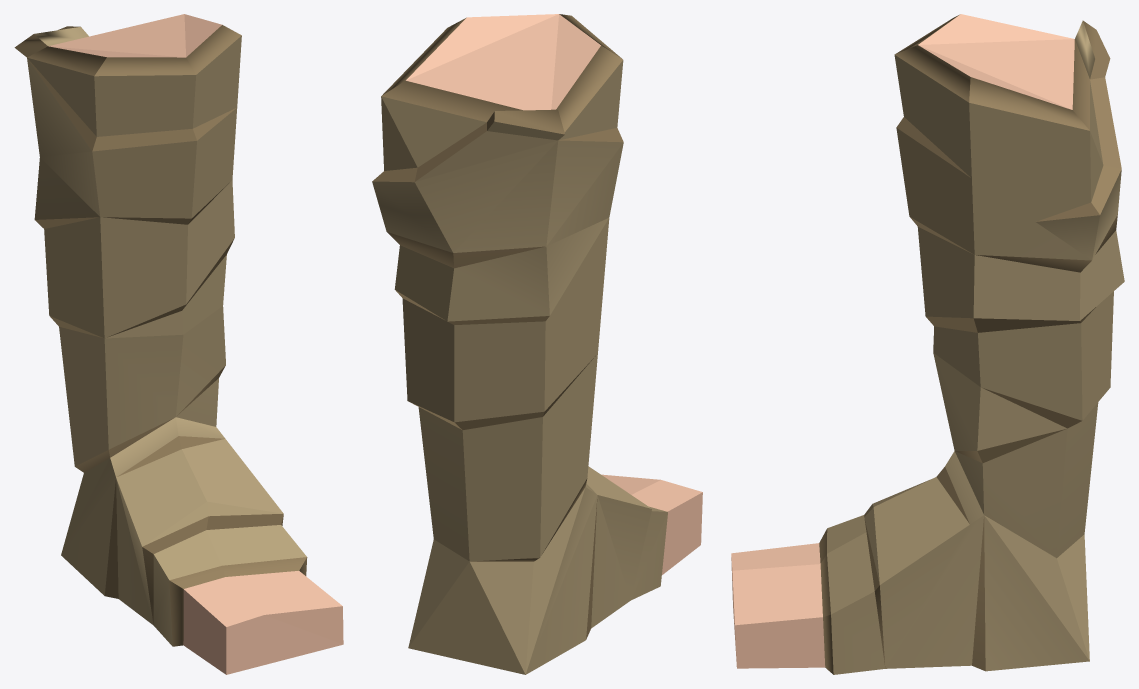
Rendered from Chr_LegRight_Male_03_Static.fbx.
The picture shows the model from 3 angles, left to right: view 1: azimuth 30°, elevation 25°; view 2: azimuth 150°, elevation 25°; view 3: azimuth 270°, elevation 25°; orthographic projection. The views are drawn at different scales.
Parts seen in each view (by area): view 1: Chr_LegRight_Male_03_Static; view 2: Chr_LegRight_Male_03_Static; view 3: Chr_LegRight_Male_03_Static.
Boxes of the visible parts, <box> form: Chr_LegRight_Male_03_Static: <box>14,14,343,674</box>; Chr_LegRight_Male_03_Static: <box>372,14,702,674</box>; Chr_LegRight_Male_03_Static: <box>731,14,1124,674</box>.
Size of the model in its own units: 0.1379 by 0.4063 by 0.2463.
